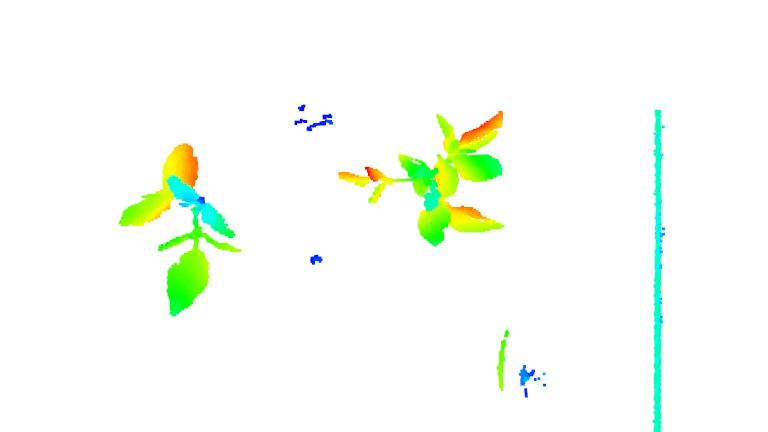mungbean: (335, 106, 519, 243), (121, 146, 246, 317)
